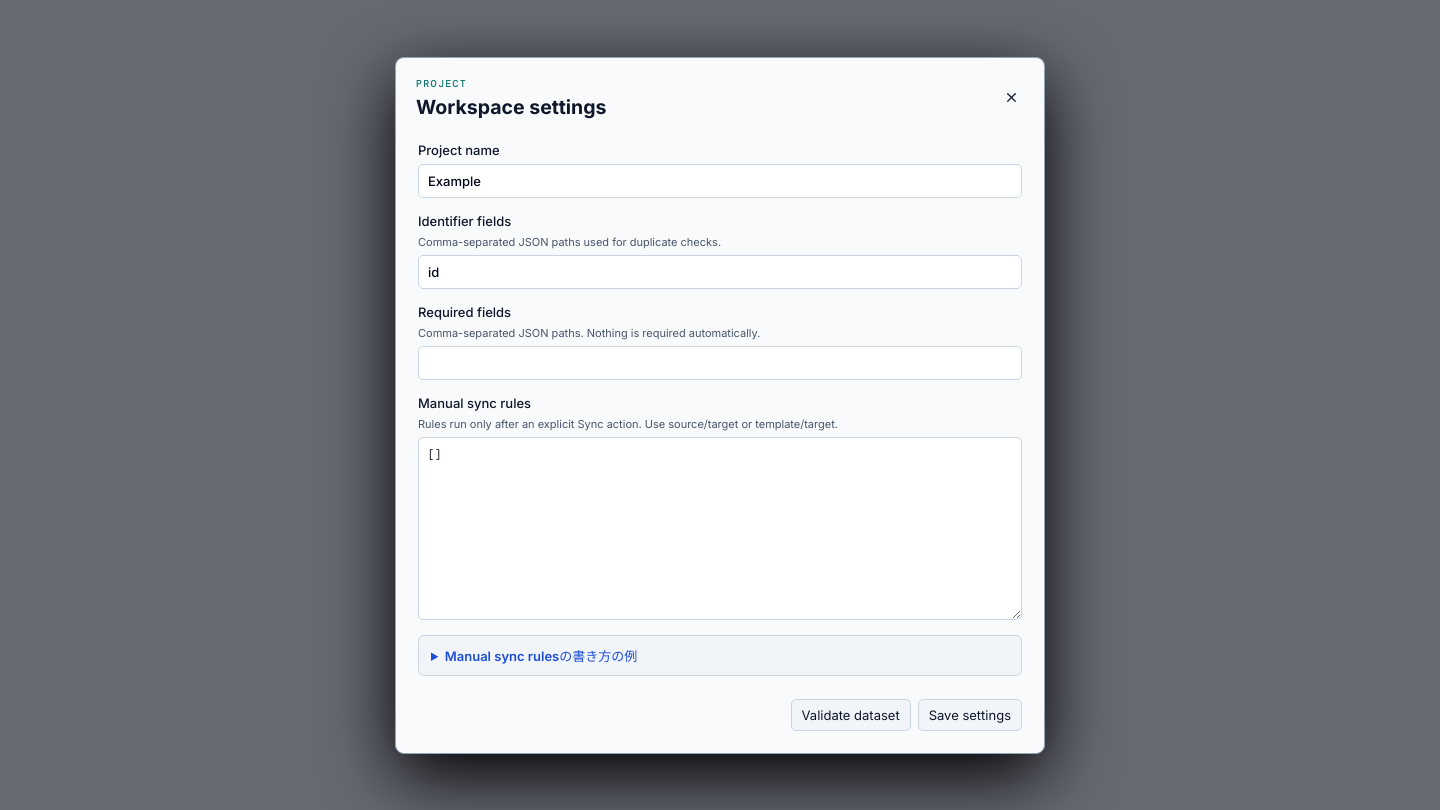
ProjectSettings sync rule help › is closed initially and provides source and template examples
The image size is (1440, 810).
Click the heading "Manual sync rulesの書き方の例".
click(541, 656)  # box [445, 648, 637, 664]
(page scrolled)
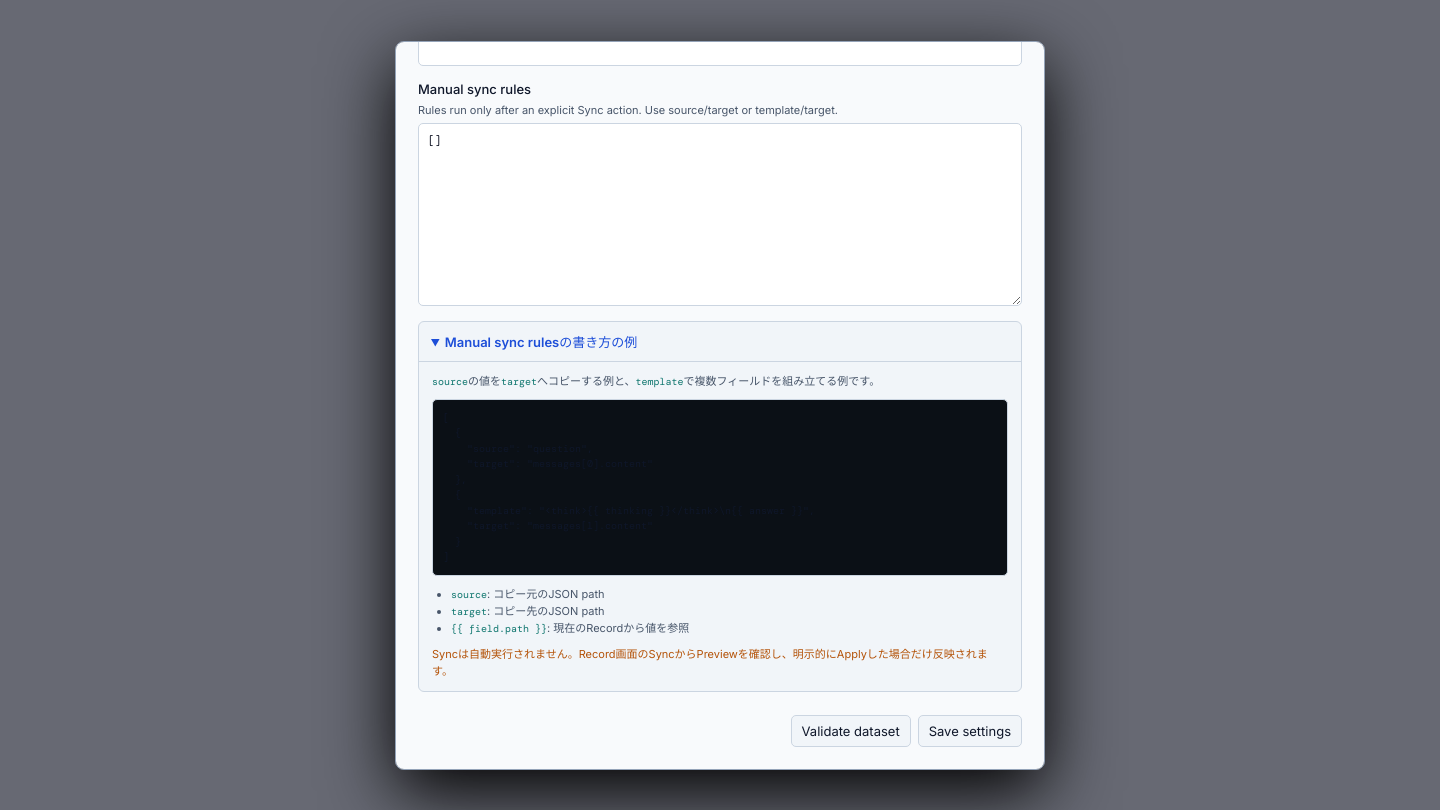
Check: the text "自動実行されません" is shown, box [432, 647, 988, 678]
